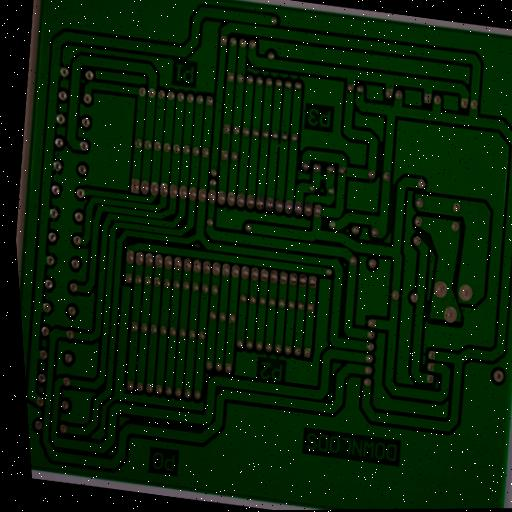short_circuit: (314, 163, 335, 188), (128, 354, 148, 375), (273, 134, 288, 153)
